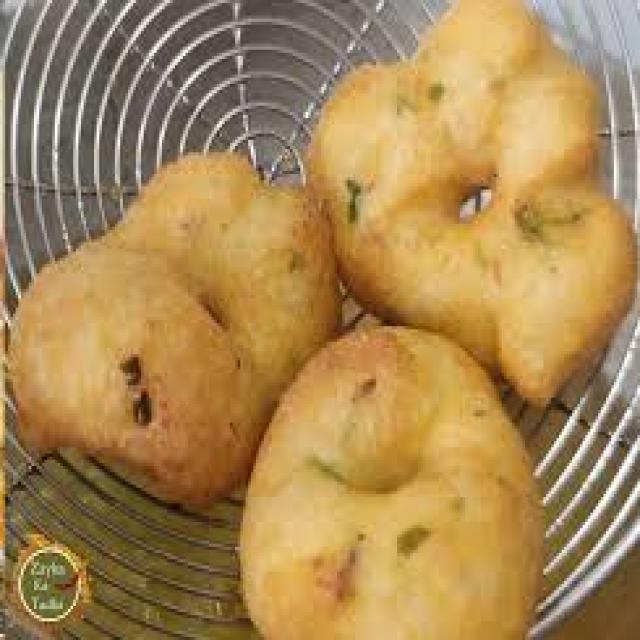MEDU VADA: (313, 1, 636, 393), (9, 156, 328, 485), (240, 328, 543, 631)
